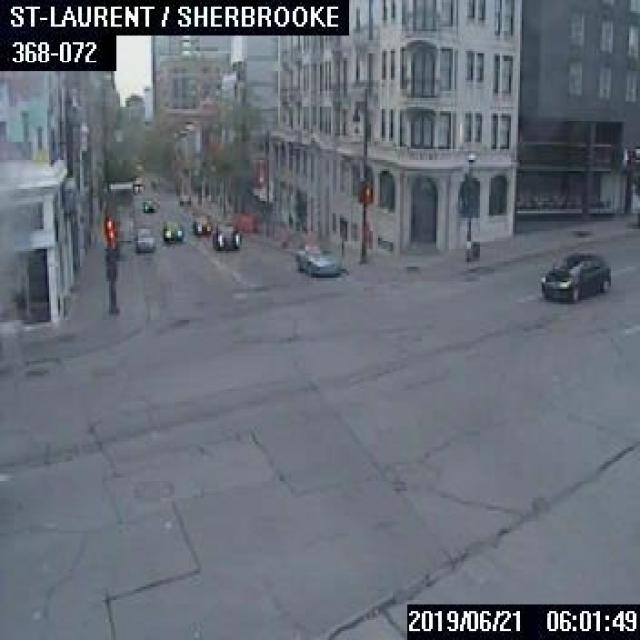vehicle: (538, 251, 609, 300), (295, 244, 338, 274), (212, 221, 240, 247), (132, 229, 154, 251), (162, 222, 182, 242), (192, 212, 210, 233), (142, 197, 156, 211), (132, 177, 143, 192), (178, 192, 190, 202)
